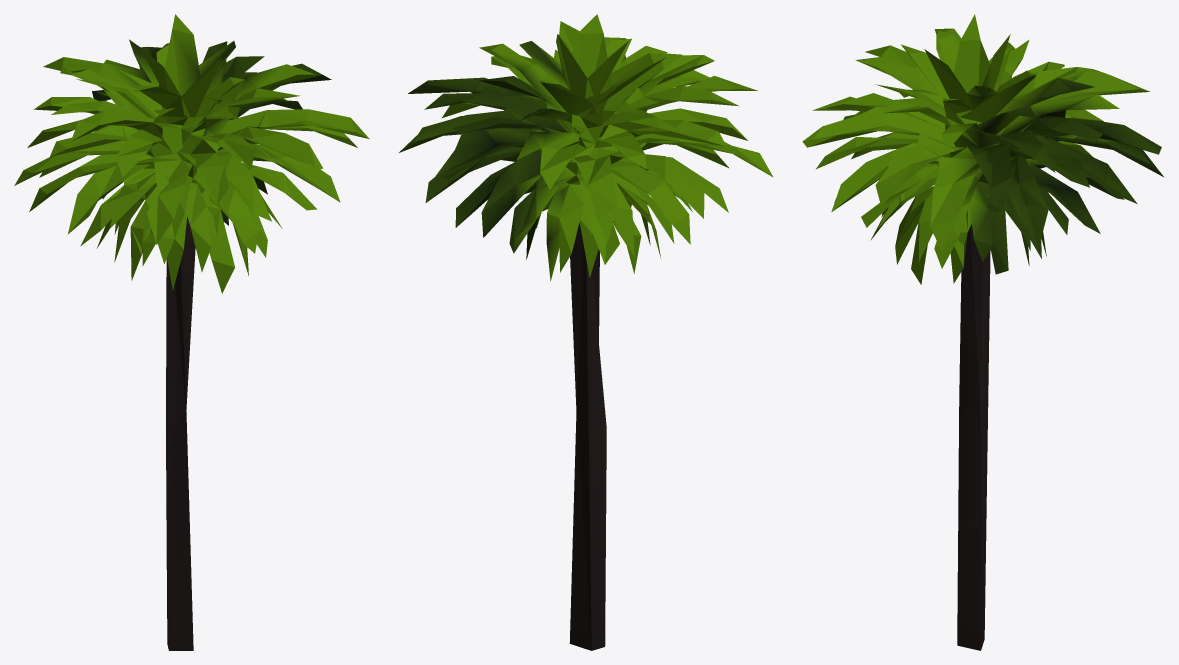
Rendered from palm.glb.
3 renders of one model, left to right at view 1: azimuth 30°, elevation 25°; view 2: azimuth 150°, elevation 25°; view 3: azimuth 270°, elevation 25°, orthographic.
Parts seen in each view (by area): view 1: PaperTrees.044; view 2: PaperTrees.044; view 3: PaperTrees.044.
Boxes of the visible parts, x1,y1,x2,y2 form: PaperTrees.044: (14,14,369,650); PaperTrees.044: (399,14,773,650); PaperTrees.044: (802,14,1163,650).
Bounding box in the file's own units: 11.59 × 21.73 × 11.58.
